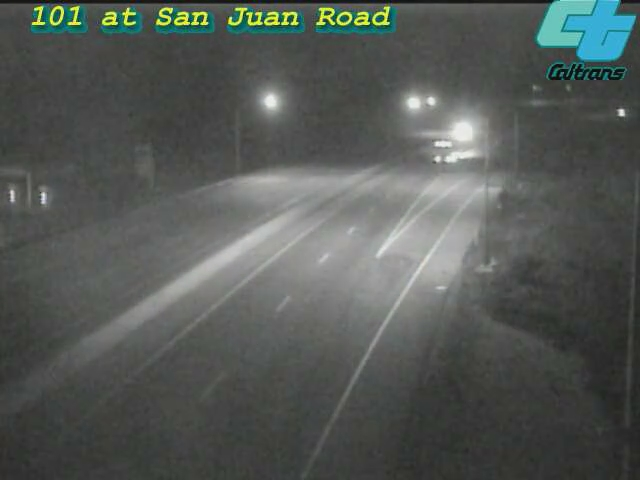vehicle: (437, 105, 487, 155), (422, 126, 472, 176)
